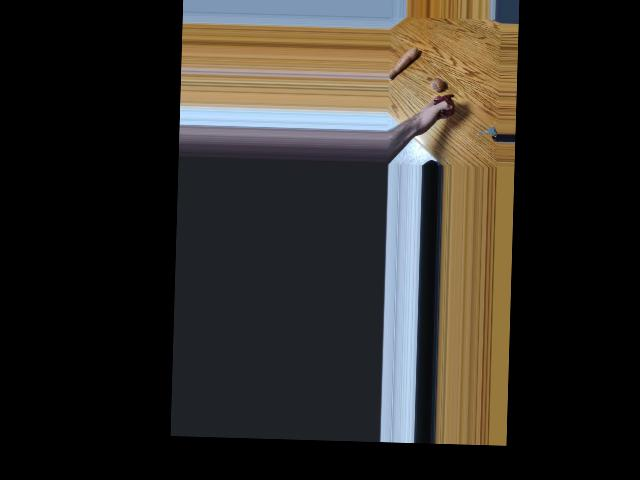onion: (429, 76, 444, 94)
